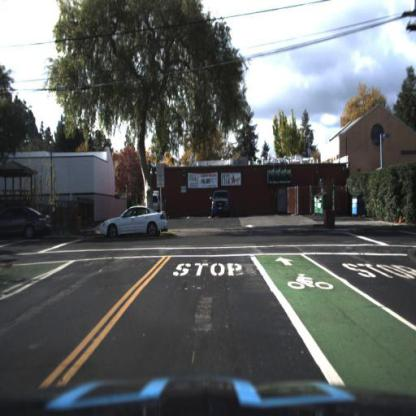car: (96, 197, 172, 252), (1, 203, 58, 249), (208, 188, 233, 218), (142, 197, 163, 215)
